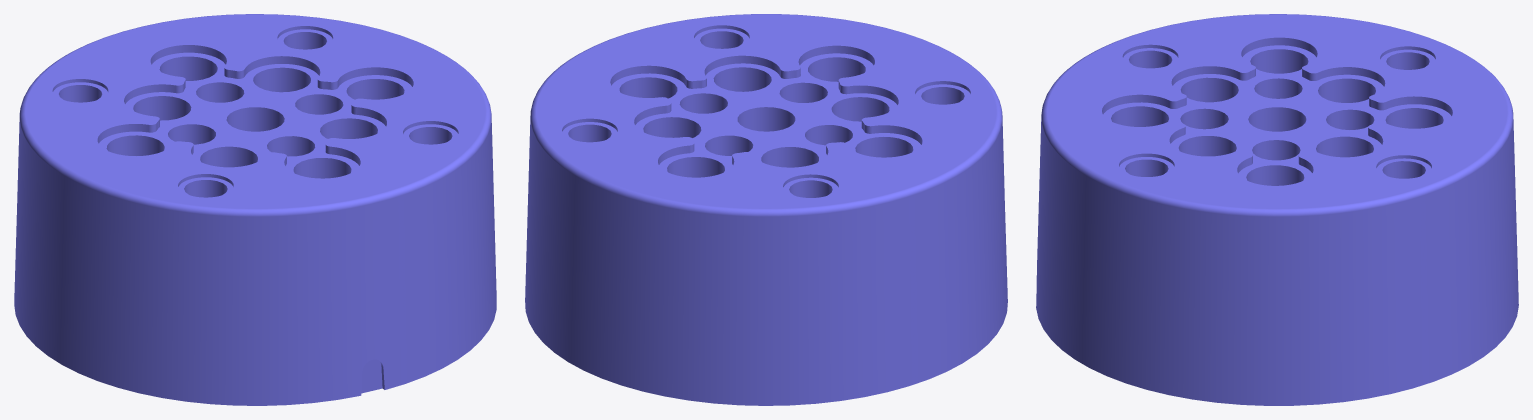
The picture shows the model from 3 angles, left to right: view 1: azimuth 30°, elevation 25°; view 2: azimuth 150°, elevation 25°; view 3: azimuth 270°, elevation 25°; orthographic projection.
Parts seen in each view (by area): view 1: Brep; view 2: Brep; view 3: Brep.
Boxes of the visible parts, left/top/right/bottom form: Brep: left=14, top=14, right=496, bottom=405; Brep: left=525, top=14, right=1007, bottom=405; Brep: left=1036, top=14, right=1518, bottom=405.
Size of the model in its own units: 39.78 by 39.78 by 17.48.
